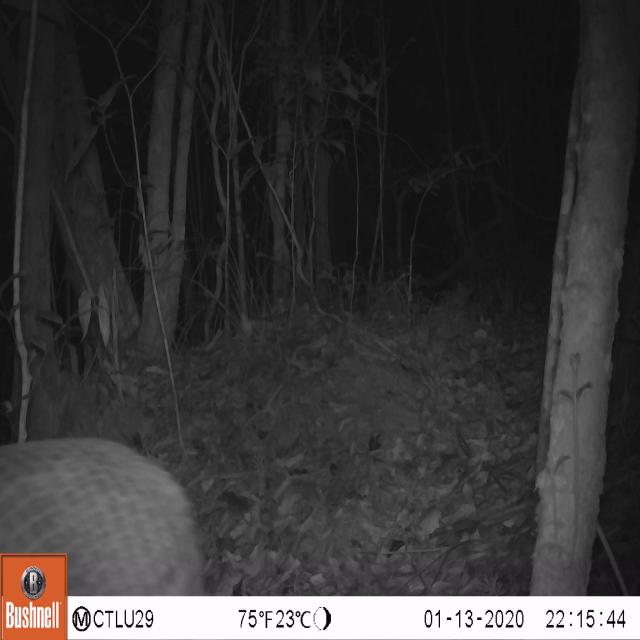Armadillo: (0, 421, 216, 594)
